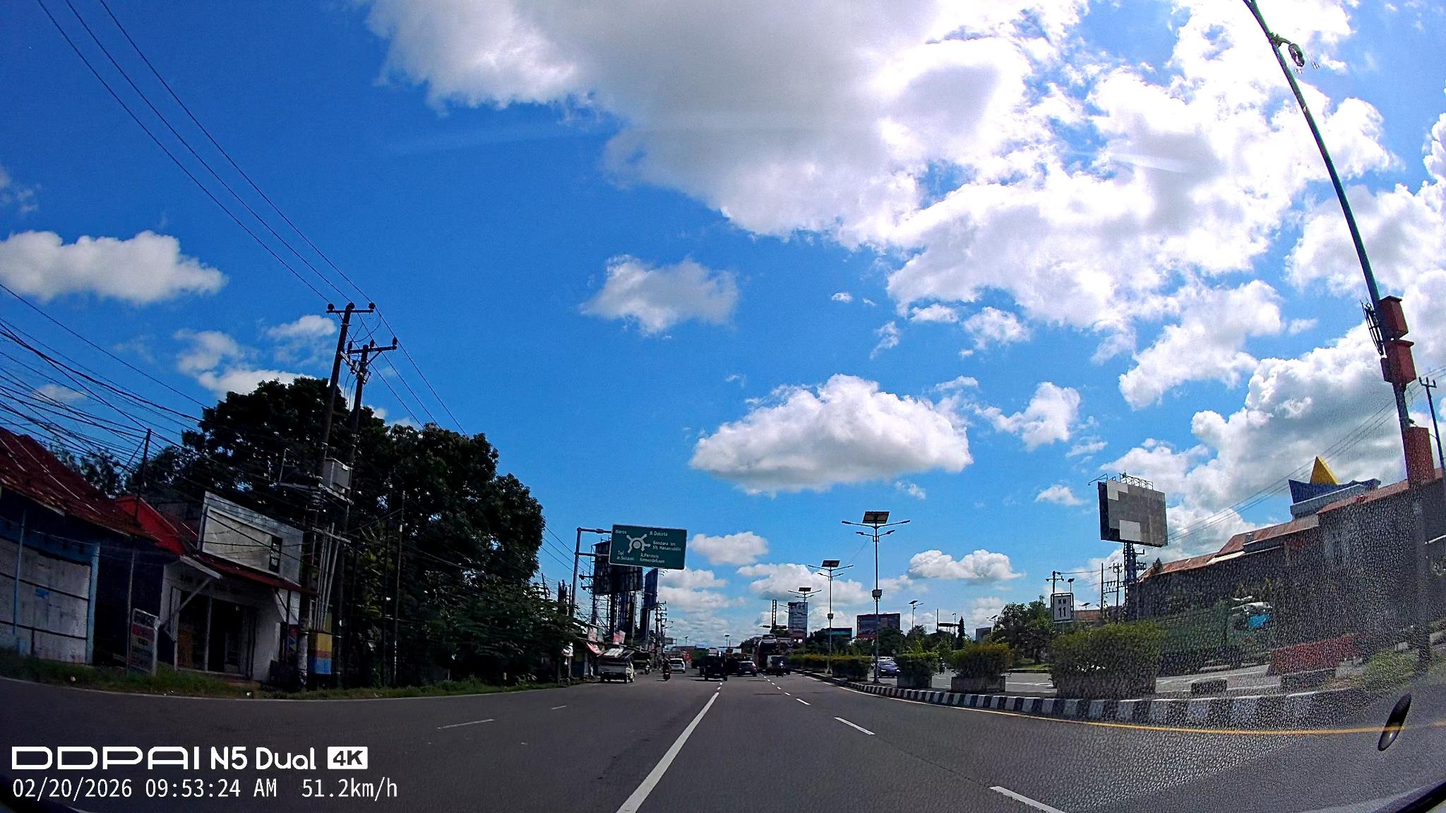rambu_teks: (607, 524, 688, 571)
